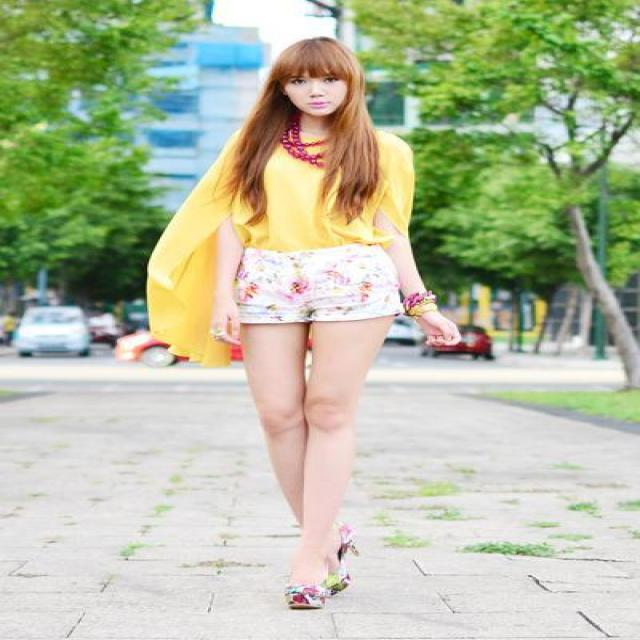shirt: (147, 127, 426, 366)
shoe: (278, 550, 352, 603)
shorts: (243, 244, 435, 322)
